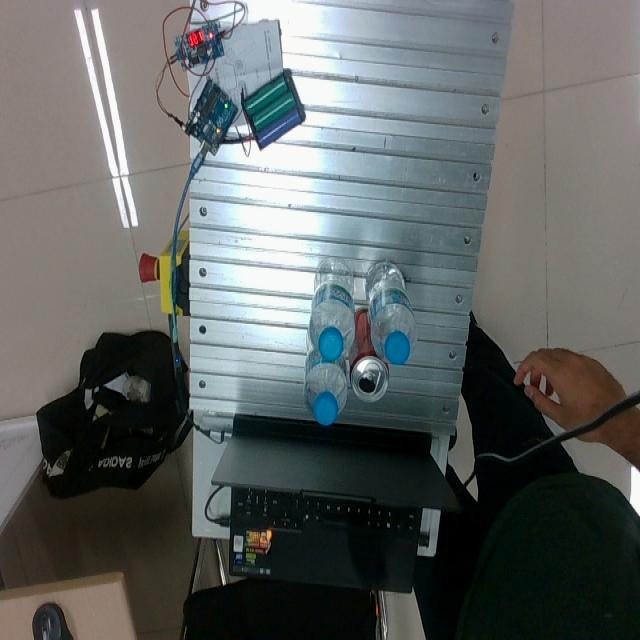coca: (349, 308, 389, 404)
lavie: (365, 260, 415, 365), (309, 259, 356, 364), (303, 336, 348, 424)
